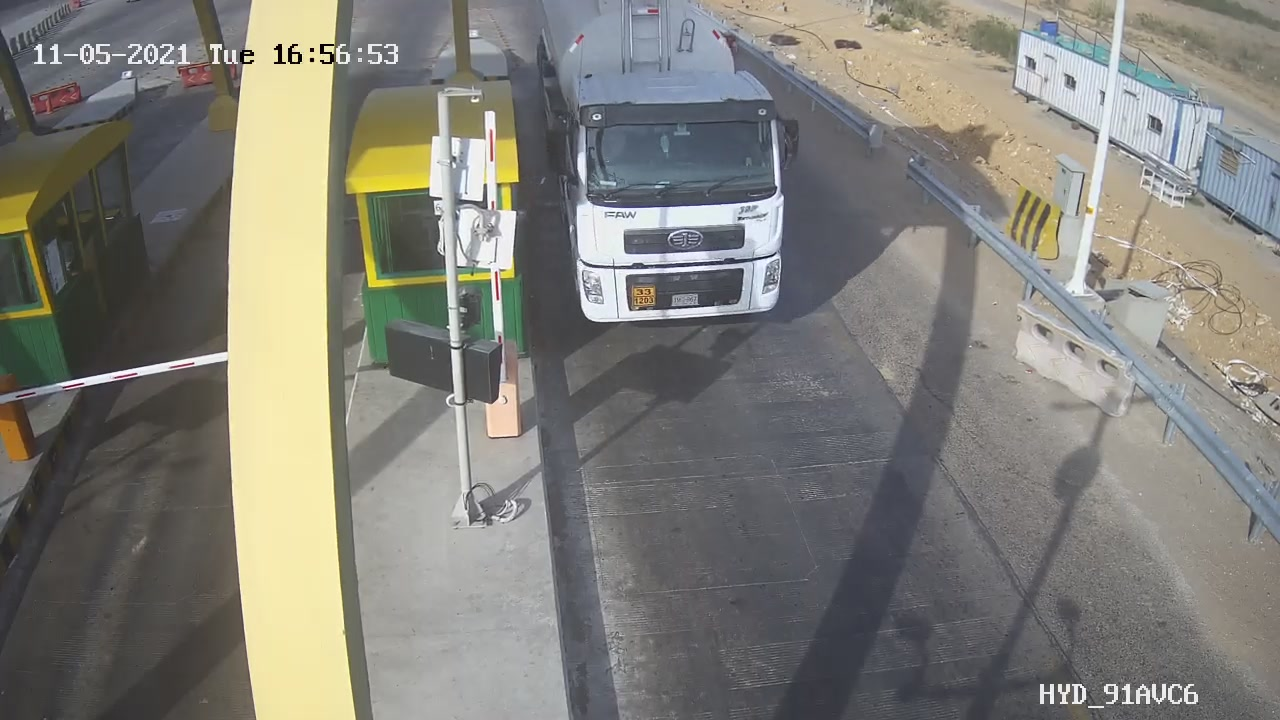F6: (516, 3, 834, 361)
